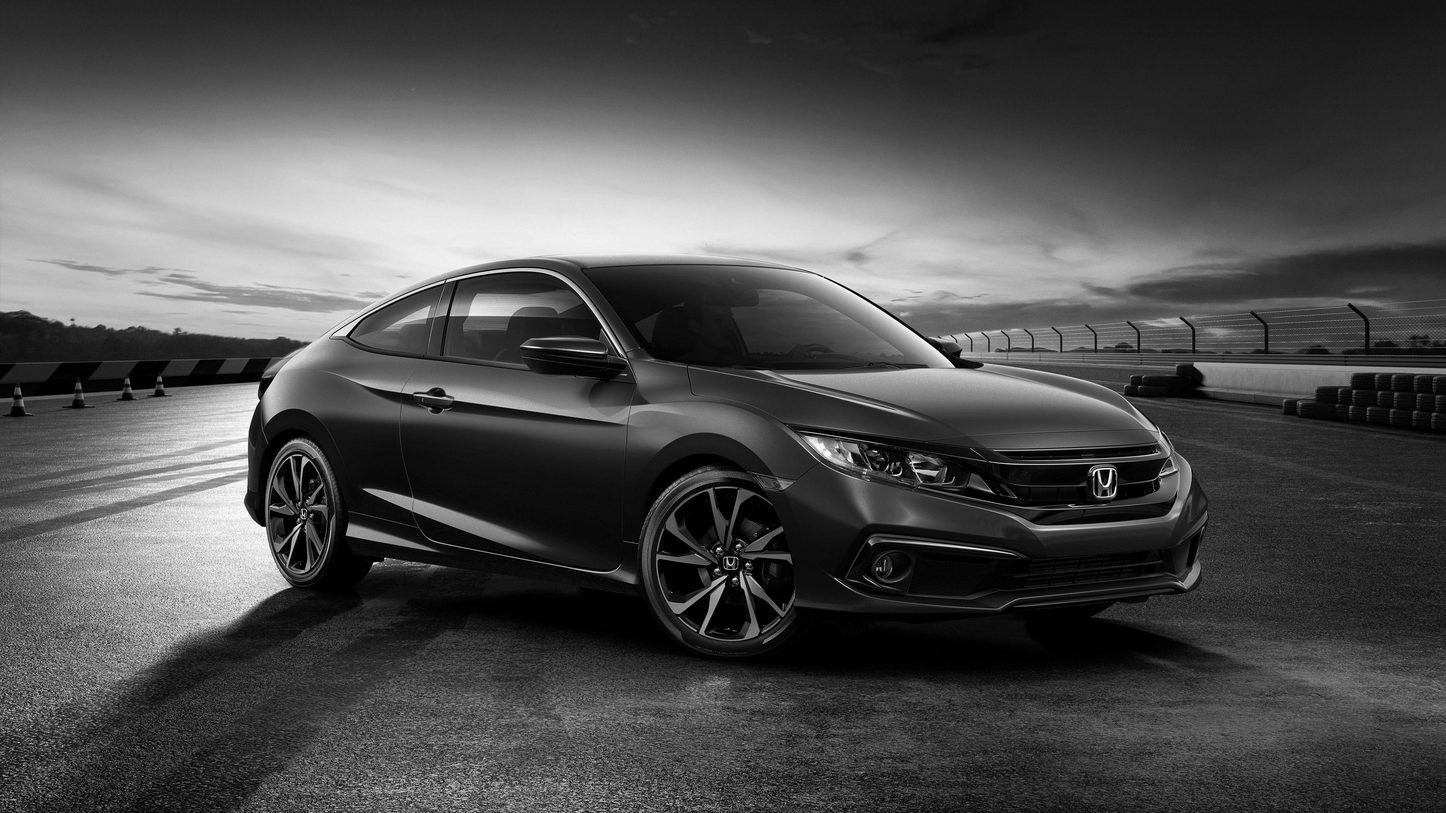Car hood: (683, 357, 1171, 452)
Driver-s door - -F-R-: (394, 259, 620, 576)
Fender - -F-R-: (621, 334, 829, 579)
Fender - -R-R-: (263, 344, 368, 541)
Front bumper: (784, 474, 1216, 623)
Headlight - -L-: (1142, 420, 1189, 470)
Headlight - -R-: (784, 419, 1019, 510)
Rear bumper: (240, 394, 291, 530)
Rear light - -R-: (254, 342, 307, 402)
Side bumper - -R-: (335, 508, 648, 602)
Side mirror - -L-: (916, 329, 979, 369)
Side mirror - -R-: (514, 326, 628, 396)
